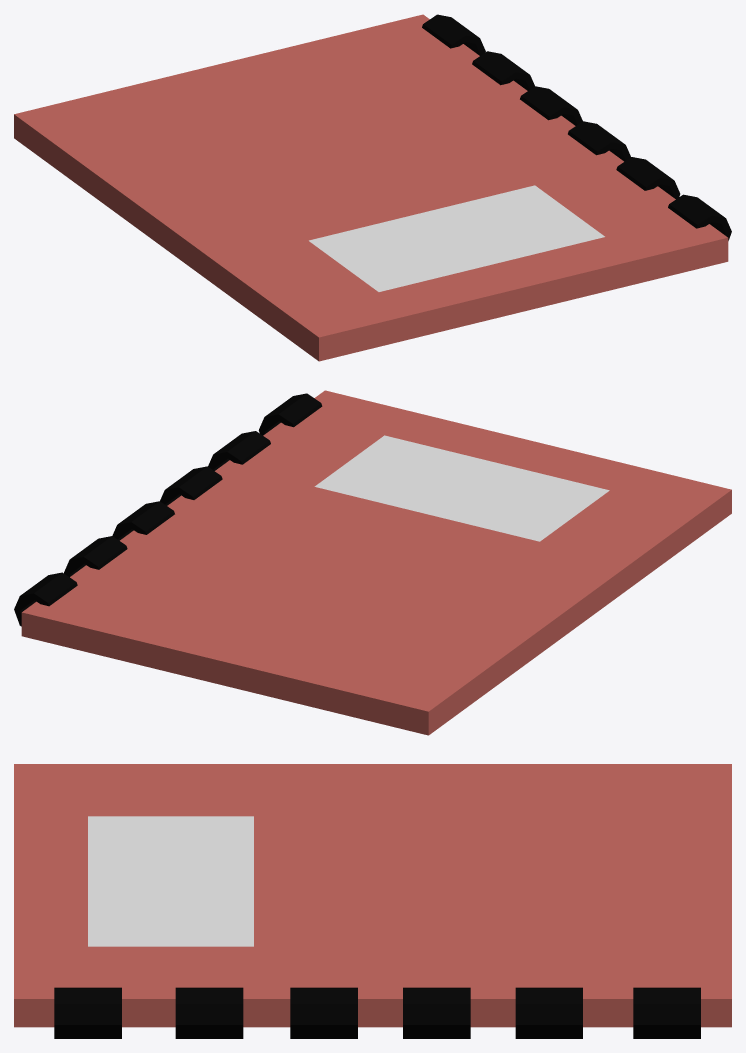
Rendered from buku history user persona.fbx.
The picture shows the model from 3 angles, top to bottom: view 1: azimuth 30°, elevation 25°; view 2: azimuth 150°, elevation 25°; view 3: azimuth 270°, elevation 25°; orthographic projection. The views are drawn at different scales.
Parts seen in each view (by area): view 1: Cube; view 2: Cube; view 3: Cube.
Part boxes in pixels (x1=…): Cube: x1=14, y1=14, x2=731, y2=361; Cube: x1=14, y1=390, x2=731, y2=735; Cube: x1=14, y1=764, x2=731, y2=1038.
Bounding box in the file's own units: 34.68 × 3.23 × 42.59.
